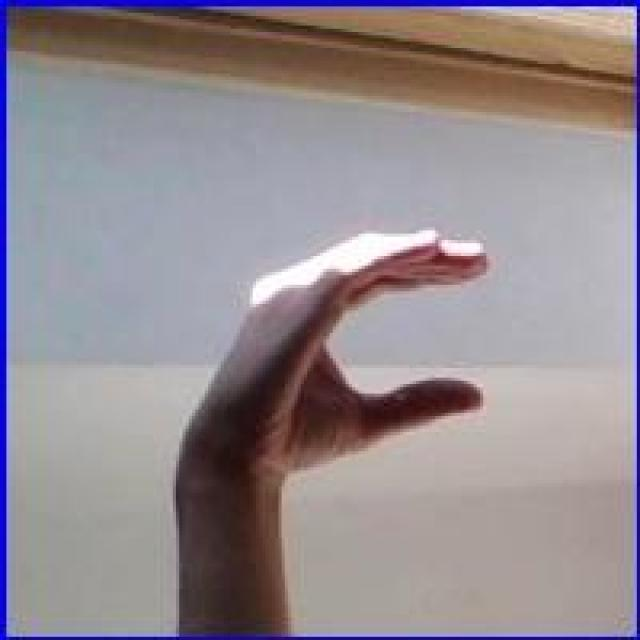C: (198, 218, 502, 483)
